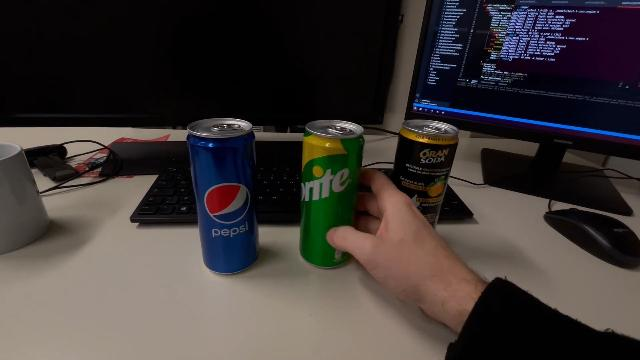OranSoda: (390, 118, 458, 236)
Pepsi: (186, 117, 262, 278)
Sprite: (296, 117, 366, 272)
